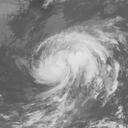cyclone: (29, 20, 116, 104)
